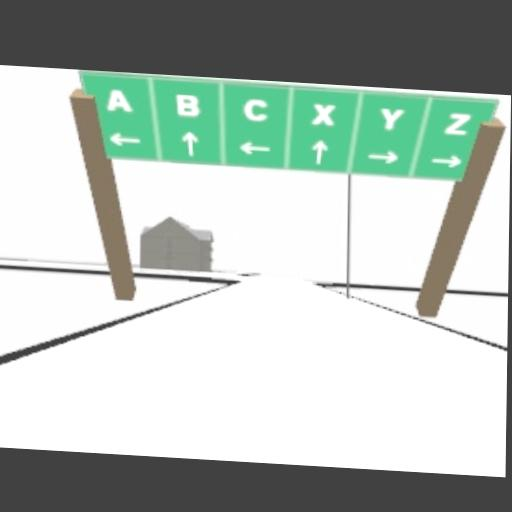A: (105, 87, 132, 111)
B: (175, 93, 198, 115)
C: (242, 97, 267, 121)
Left: (238, 140, 270, 156), (108, 132, 140, 147)
Right: (368, 150, 398, 164), (431, 154, 461, 167)
Straight: (310, 138, 328, 164), (180, 130, 198, 156)
X: (310, 101, 335, 125)
Y: (379, 105, 404, 132)
Z: (443, 111, 472, 136)
